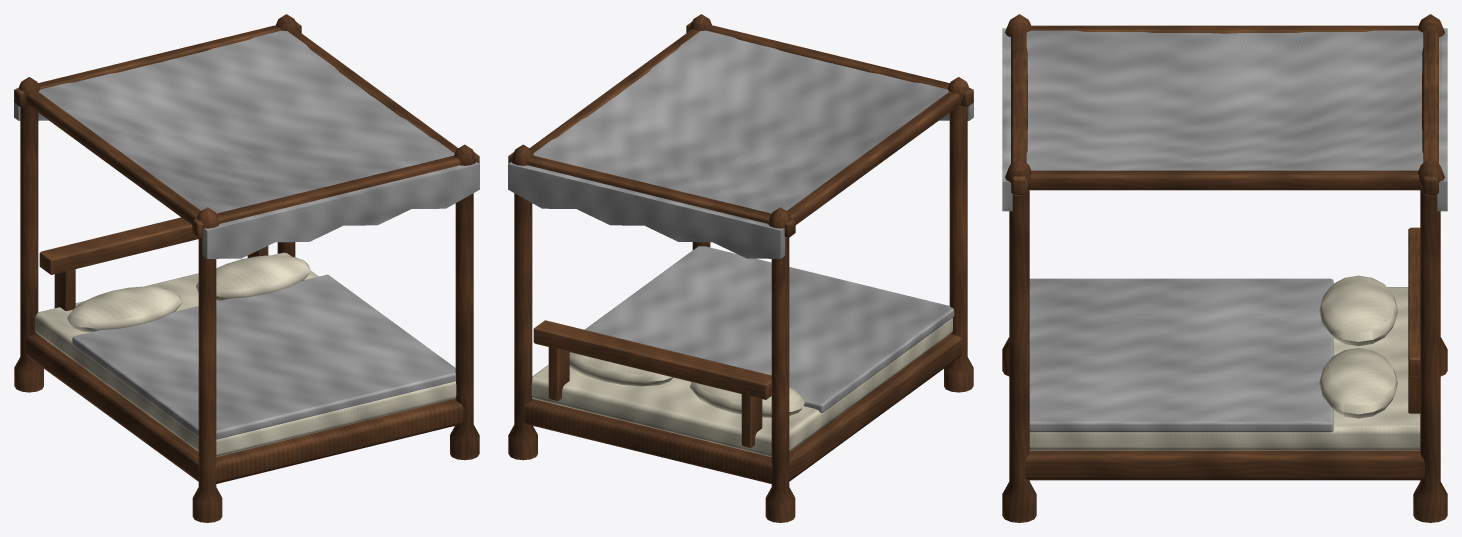
Rendered from Furn_Place_CanopyBed.fbx.
3 views of the same model, side by side, from view 1: azimuth 30°, elevation 25°; view 2: azimuth 150°, elevation 25°; view 3: azimuth 270°, elevation 25° (orthographic). The views are drawn at different scales.
Parts seen in each view (by area): view 1: Furn_Place_CanopyBed; view 2: Furn_Place_CanopyBed; view 3: Furn_Place_CanopyBed.
Part boxes in pixels (box(x1,y1,x2,y2)): Furn_Place_CanopyBed: box(14, 14, 479, 522); Furn_Place_CanopyBed: box(508, 14, 973, 522); Furn_Place_CanopyBed: box(1002, 14, 1447, 522).
Bounding box in the file's own units: 2.2 × 2.3 × 2.6.
3 materials, 3 textured.
